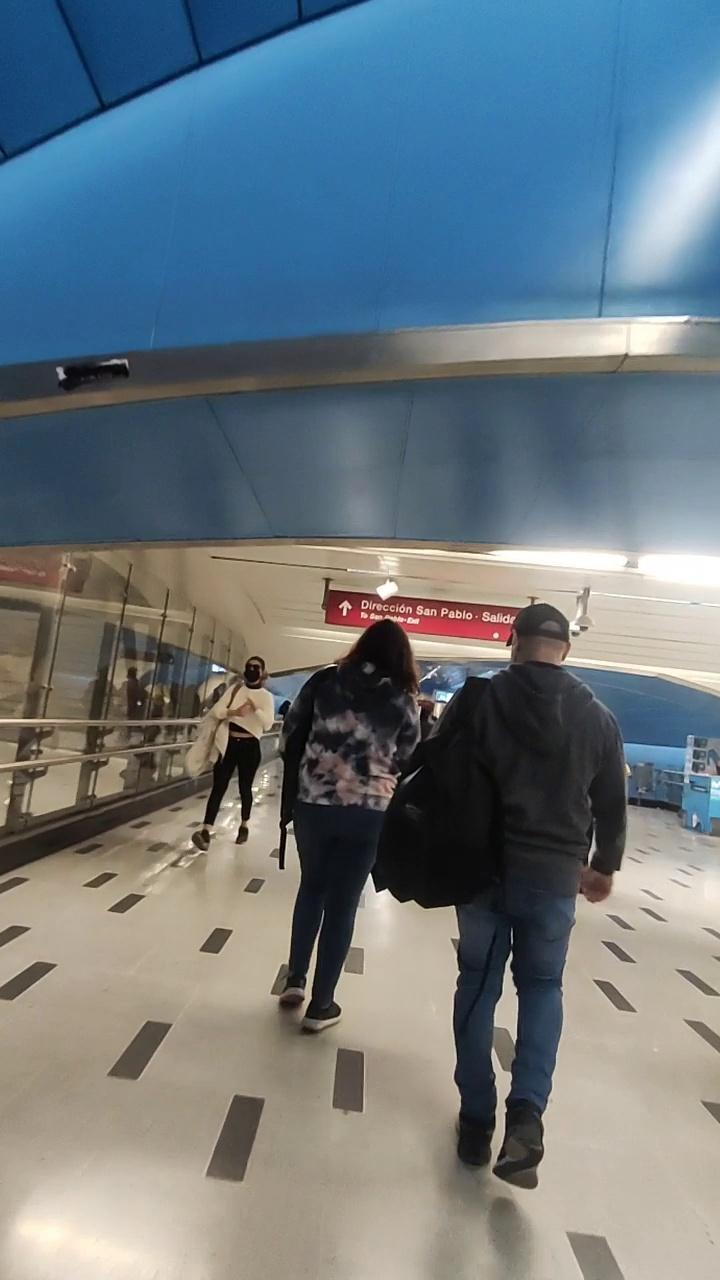up arrow: (330, 597, 360, 625)
